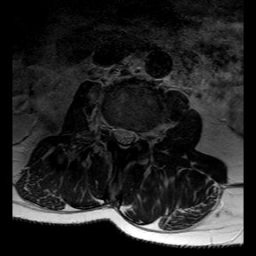CCS_normal: (120, 118, 128, 156)
LFS_normal: (136, 120, 145, 147)
LLS_normal: (128, 120, 136, 149)
RFS_normal: (102, 111, 111, 141)
RLS_normal: (111, 116, 120, 150)
